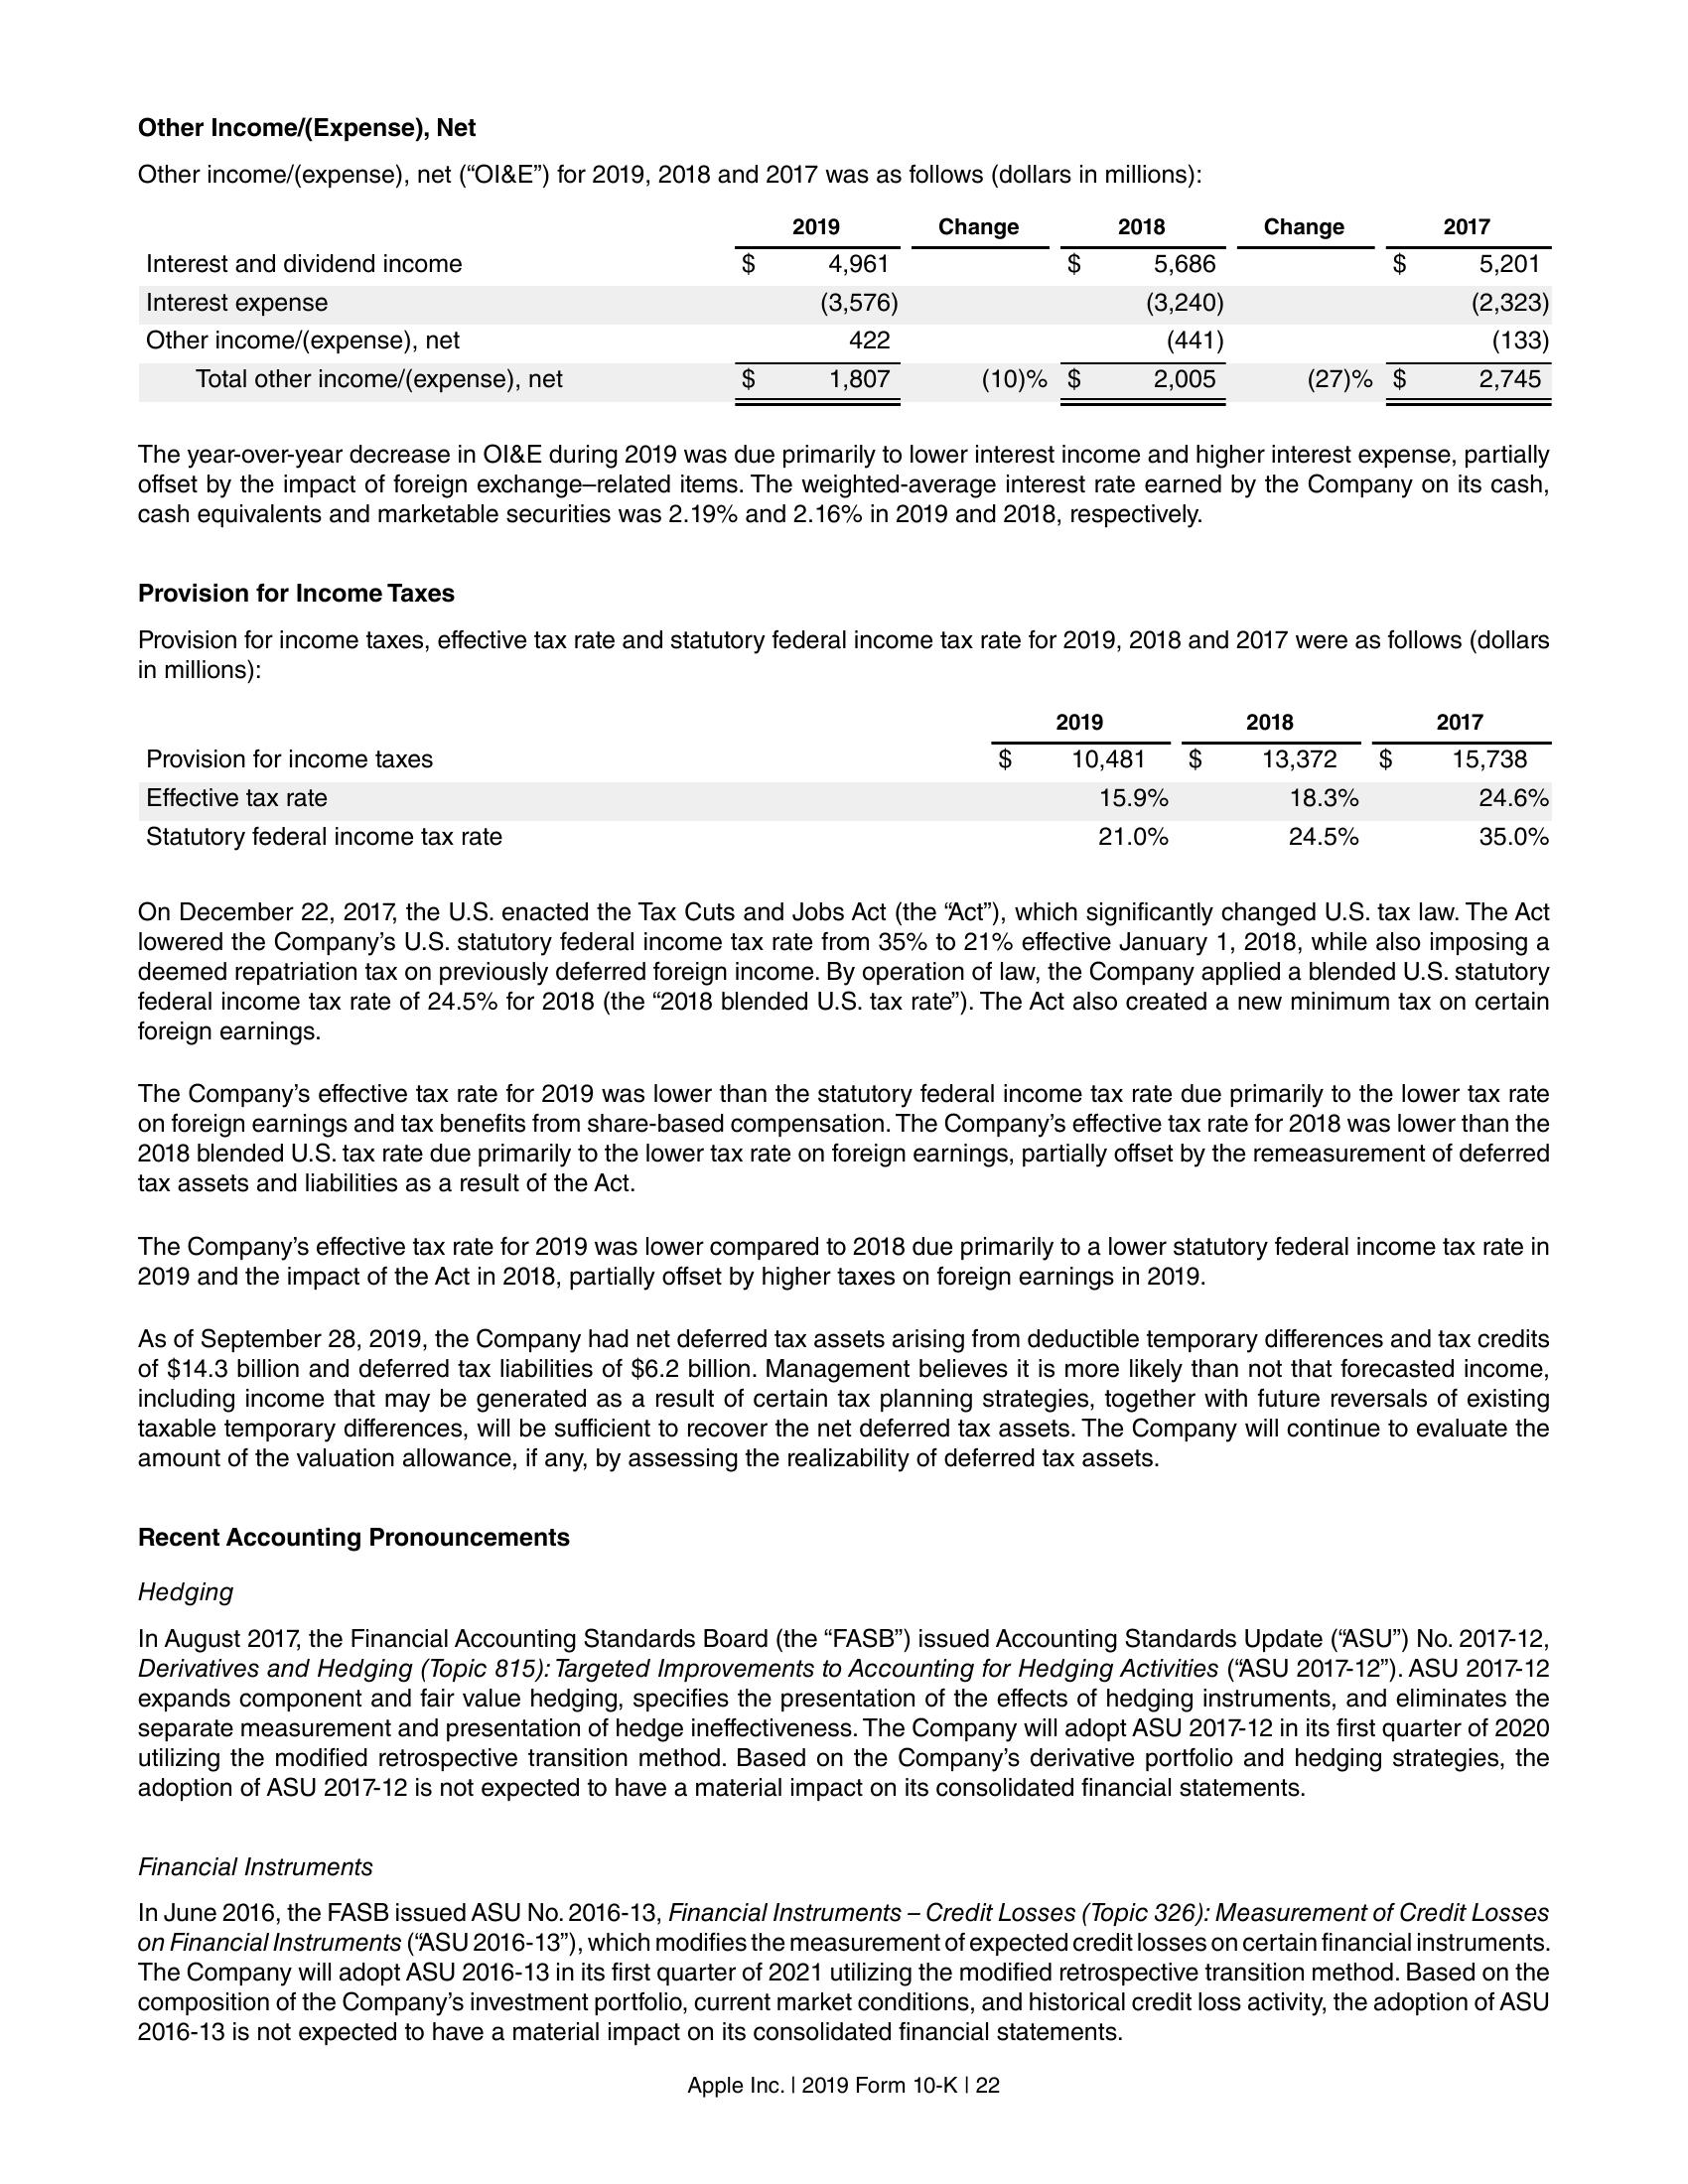table: (144, 209, 1564, 415), (142, 707, 1553, 858)
